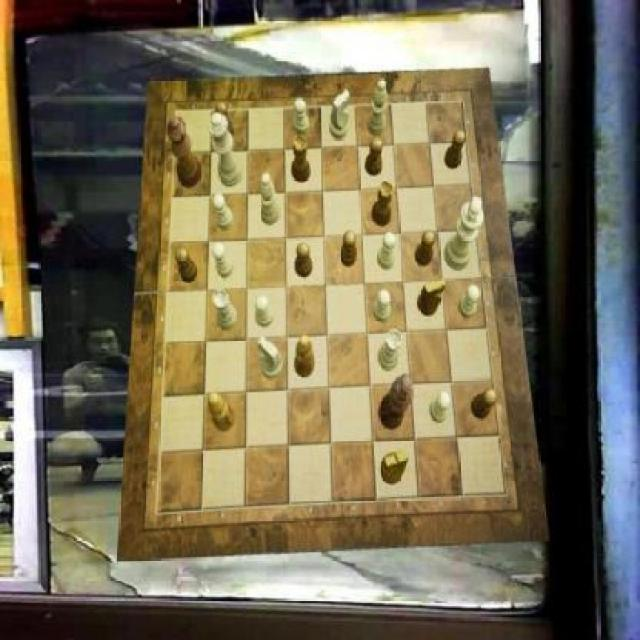bishop: (208, 392, 235, 432), (294, 335, 314, 378)
black-bishop: (378, 374, 414, 430)
black-king: (380, 450, 409, 486), (419, 277, 446, 315)
black-knight: (470, 388, 498, 420), (445, 131, 467, 169), (175, 248, 198, 282), (416, 230, 436, 266), (216, 103, 234, 142), (295, 242, 313, 278), (340, 229, 357, 267), (365, 137, 382, 175)
black-pawn: (168, 117, 203, 189)
black-queen: (372, 180, 395, 226), (292, 135, 312, 183)
black-rook: (368, 79, 388, 136), (260, 174, 281, 226)
white-bishop: (444, 195, 484, 270)
white-king: (259, 335, 283, 378), (331, 89, 351, 140)
white-knight: (212, 243, 235, 279), (458, 285, 481, 319), (214, 192, 234, 230), (431, 391, 452, 423), (379, 231, 396, 269), (294, 99, 310, 136), (374, 289, 391, 323), (256, 297, 274, 329)
white-pawn: (208, 112, 243, 187)
white-queen: (212, 289, 238, 331), (378, 329, 402, 372)
